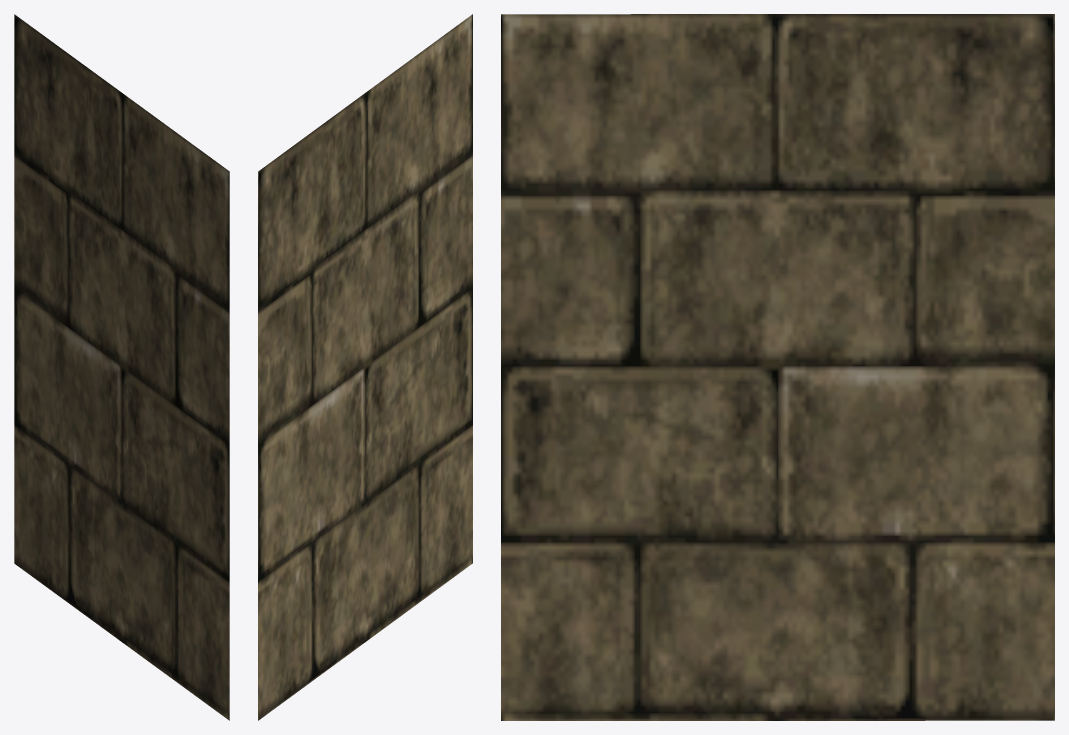
File: OVERHILL_A_01_OBJECT103.fbx
3 views of the same model, side by side, from view 1: azimuth 30°, elevation 25°; view 2: azimuth 150°, elevation 25°; view 3: azimuth 270°, elevation 25° (orthographic). The views are drawn at different scales.
Parts seen in each view (by area): view 1: OVERHILL_A_01_OBJECT103; view 2: OVERHILL_A_01_OBJECT103; view 3: OVERHILL_A_01_OBJECT103.
Part boxes in pixels (x1,y1,x2,y2): OVERHILL_A_01_OBJECT103: (14, 14, 229, 720); OVERHILL_A_01_OBJECT103: (258, 14, 472, 720); OVERHILL_A_01_OBJECT103: (501, 14, 1054, 720).
Bounding box in the file's own units: 19.04 × 28900 × 20527.
Materials: 1 (1 with a texture image).
